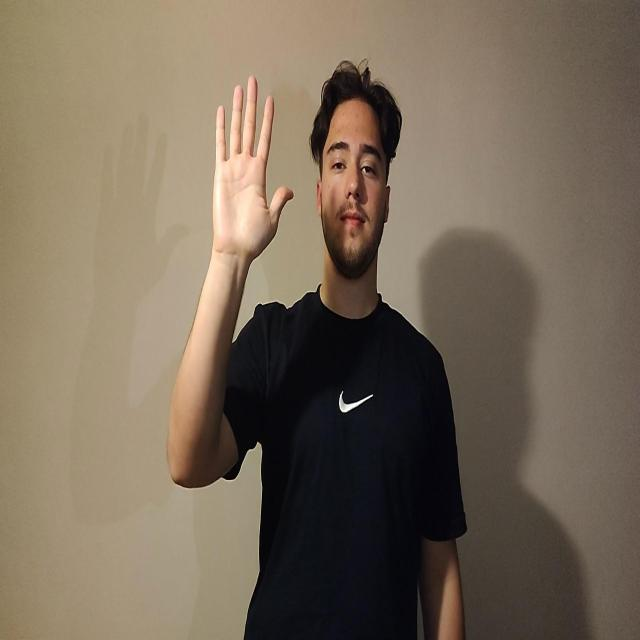hello: (211, 74, 294, 264)
